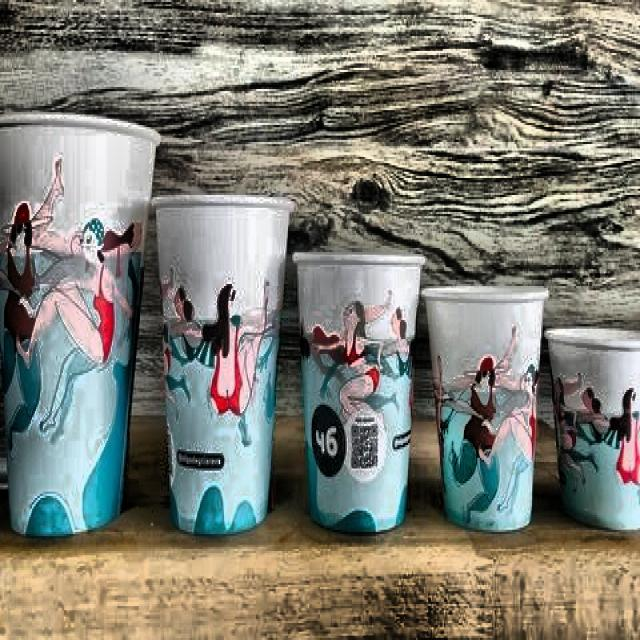Cup: (0, 105, 154, 557), (145, 184, 292, 543), (289, 239, 422, 538), (423, 280, 544, 540), (546, 318, 640, 532)
